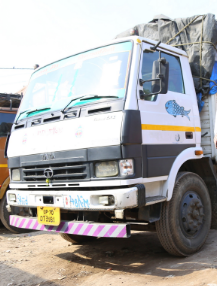truck: (11, 37, 212, 261)
